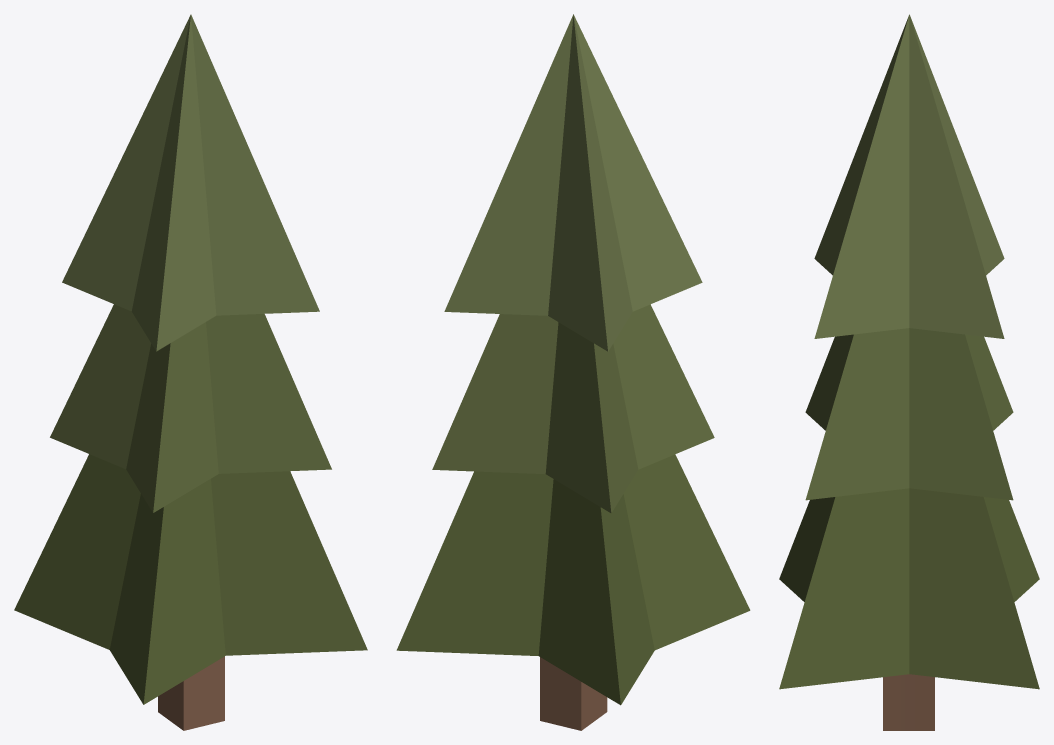
The model's file is fir_tree_19.fbx.
3 views of the same model, side by side, from view 1: azimuth 30°, elevation 25°; view 2: azimuth 150°, elevation 25°; view 3: azimuth 270°, elevation 25° (orthographic).
Parts seen in each view (by area): view 1: fir_tree_19; view 2: fir_tree_19; view 3: fir_tree_19.
Part boxes in pixels (x1=…): fir_tree_19: x1=14, y1=14, x2=367, y2=730; fir_tree_19: x1=396, y1=14, x2=750, y2=730; fir_tree_19: x1=779, y1=14, x2=1039, y2=730.
Bounding box in the file's own units: 165 × 494 × 165.
